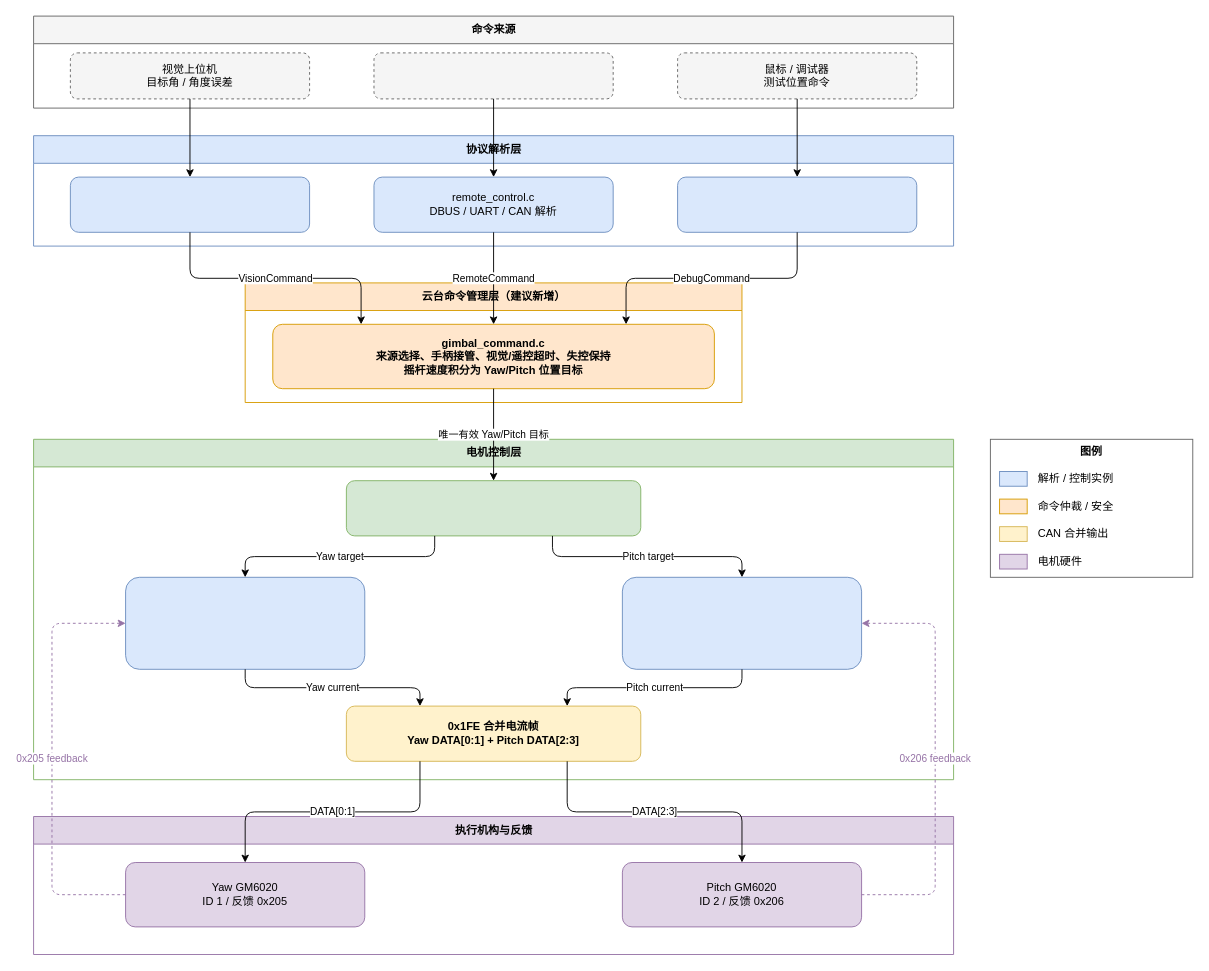
The diagram is 1209 pixels wide and 971 high, and some of its shapes have lost their labels. The shapes that lost their labels are listed below. From the top down, each one's centre as x and y in pixels, then its label:
(x=493, y=75): 遥控器 / 操控手柄 摇杆与模式开关
(x=189, y=204): vision_rx.c 校验、时间戳、单位转换
(x=797, y=204): mouse_position_rx.c 现有 8 字节串口解析
(x=493, y=508): GM6020_SetGimbalPosition() 唯一正常位置命令入口
(x=245, y=622): Yaw 控制实例 软限位 + 多圈最短路径 角度 PID → 速度 PID
(x=741, y=622): Pitch 控制实例 多圈最短路径 角度 PID → 速度 PID
